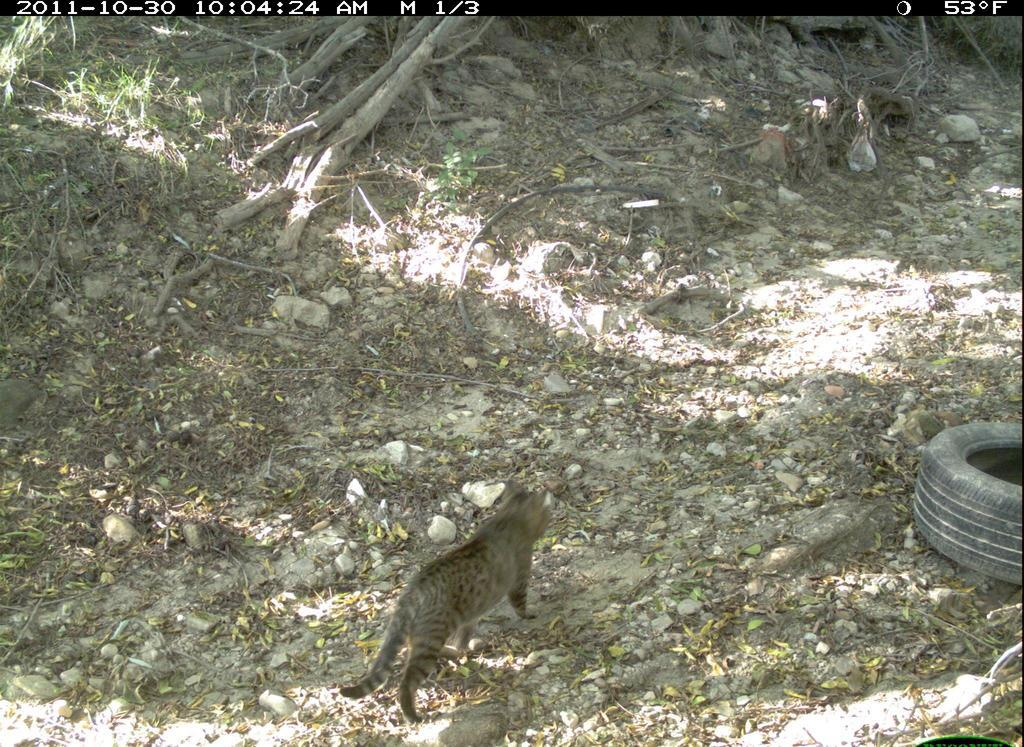cat: (324, 470, 564, 733)
